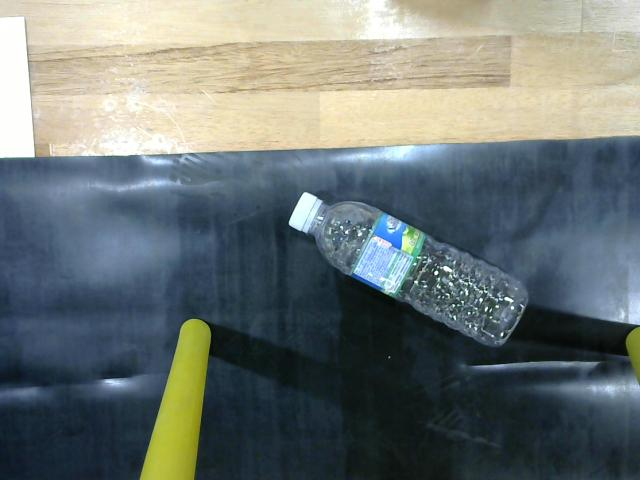bottle: (284, 184, 540, 356)
